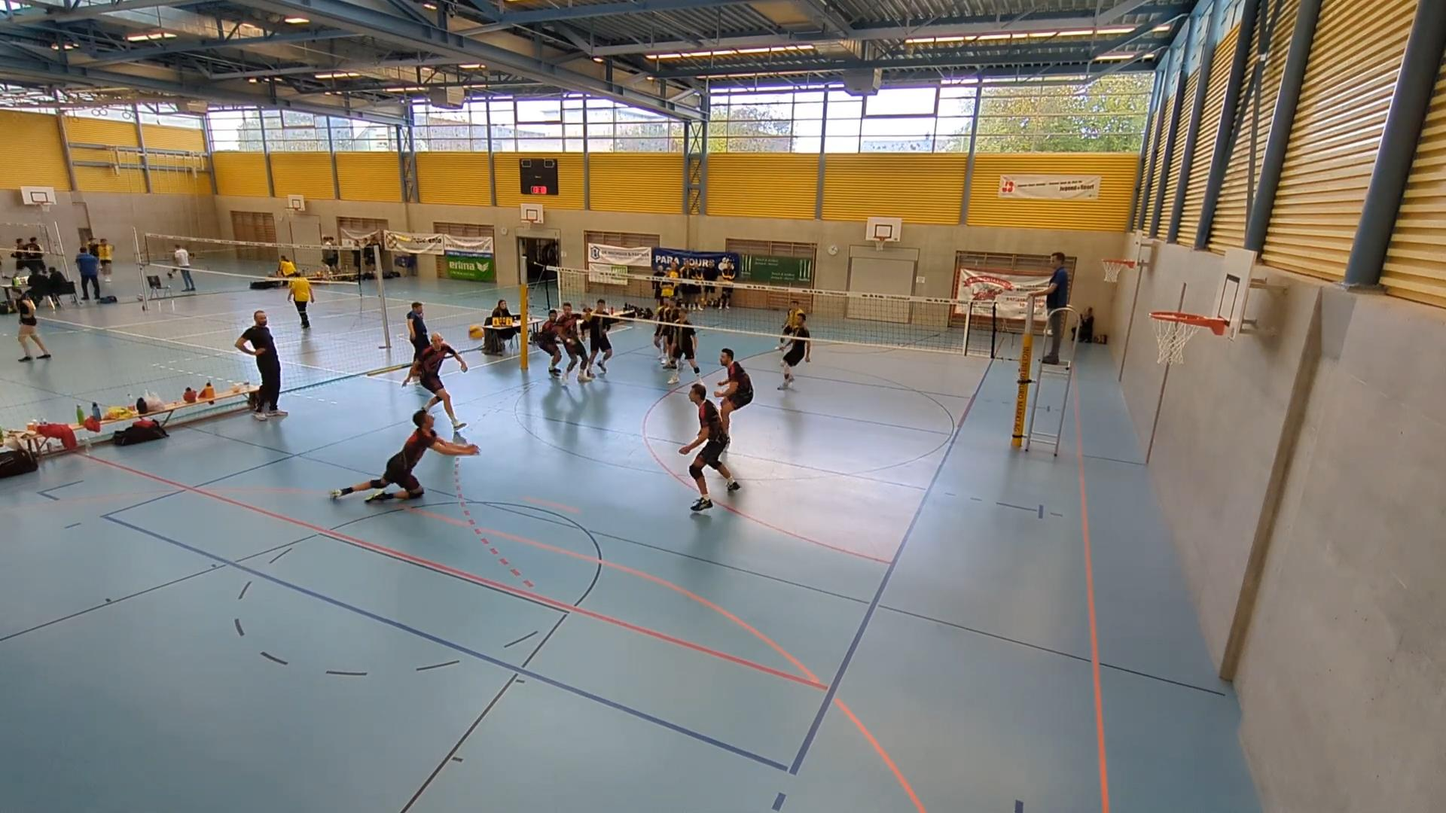difesa: (328, 408, 477, 507)
